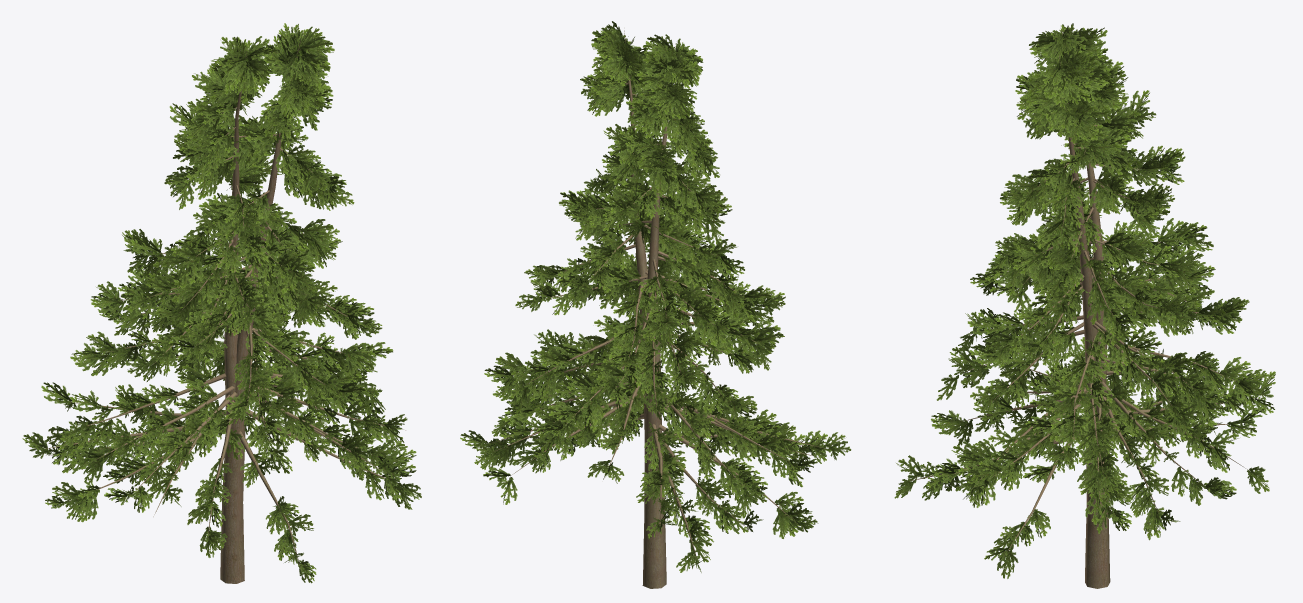
The model's file is woodland-pine.glb.
3 views of the same model, side by side, from view 1: azimuth 30°, elevation 25°; view 2: azimuth 150°, elevation 25°; view 3: azimuth 270°, elevation 25° (orthographic). The views are drawn at different scales.
Parts seen in each view (by area): view 1: pine-0, pine-1; view 2: pine-1, pine-0; view 3: pine-1, pine-0.
Boxes of the visible parts, bbox=[...] form: pine-0: bbox=[45, 36, 416, 557]; pine-1: bbox=[22, 23, 421, 583]; pine-1: bbox=[483, 21, 851, 588]; pine-0: bbox=[460, 34, 827, 538]; pine-1: bbox=[894, 49, 1275, 588]; pine-0: bbox=[922, 23, 1249, 540].
Bounding box in the file's own units: 0.6565 × 1 × 0.6413.
Materials: 2 (2 with a texture image).
